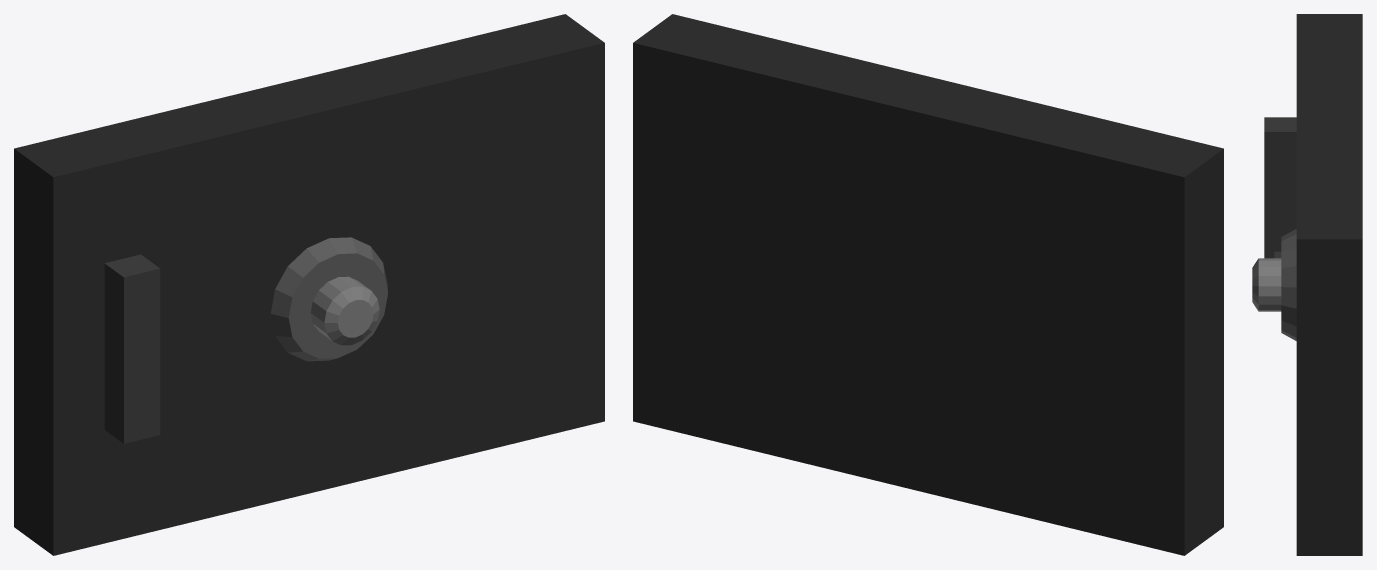
The model's file is SM_Props_Safe_02_2.fbx.
3 views of the same model, side by side, from view 1: azimuth 30°, elevation 25°; view 2: azimuth 150°, elevation 25°; view 3: azimuth 270°, elevation 25° (orthographic). The views are drawn at different scales.
Visible parts, largest first — view 1: SM_Props_Safe_02_2; view 2: SM_Props_Safe_02_2; view 3: SM_Props_Safe_02_2.
Part boxes in pixels (box(x1,y1,x2,y2)): SM_Props_Safe_02_2: box(14, 14, 604, 555); SM_Props_Safe_02_2: box(633, 14, 1223, 555); SM_Props_Safe_02_2: box(1252, 14, 1362, 555).
Bounding box in the file's own units: 0.4008 × 0.263 × 0.083.
